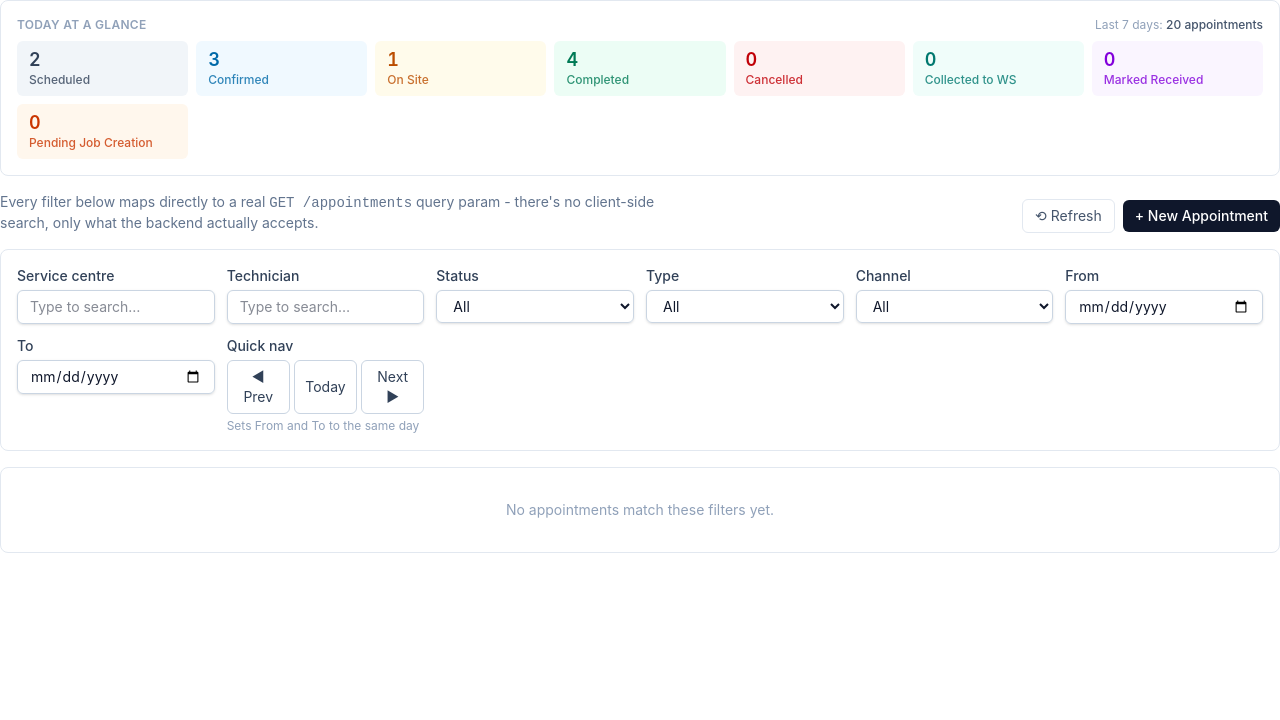
Test: SchedulePage - Google Maps link resolve › shows an inline error and leaves the coordinate fields untouched when the link cannot be resolved
Expected: the text "No appointments match these filters yet." is shown, [0,467,1279,553]
Click the button "+ New Appointment" at (1201, 216), box [1123,200,1279,232]
(page scrolled)
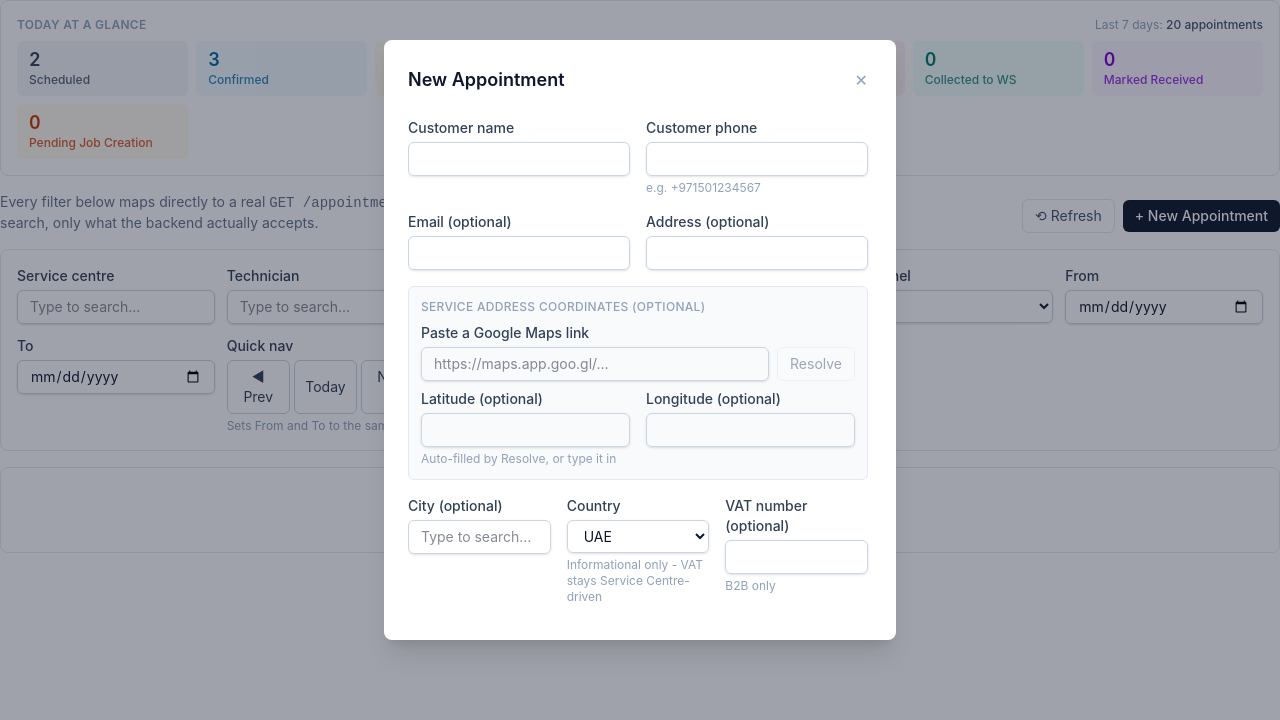
Now the heading "New Appointment" is shown, box [408,66,564,94]
Type "https://evil.example.com" into the field with placeholder "https://maps.app.goo.gl/…" at (595, 364), box [421,347,769,381]
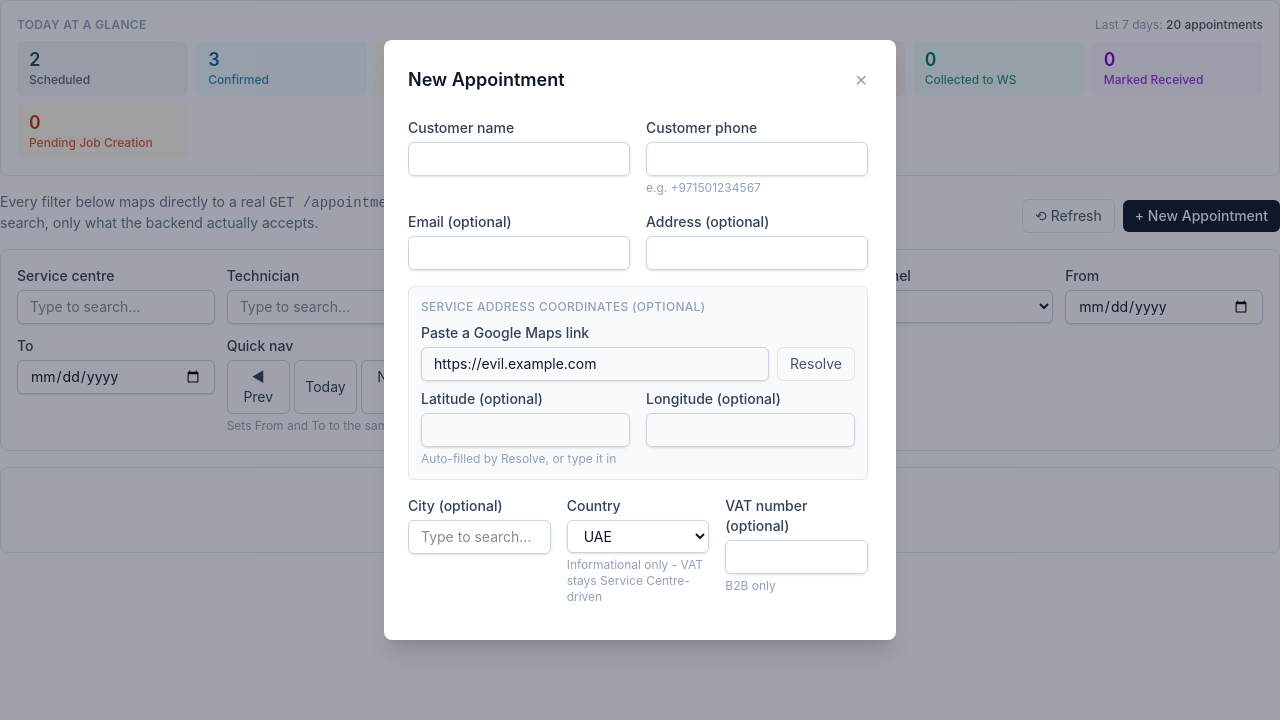
Click the button "Resolve" at (816, 364), box [777,347,855,381]
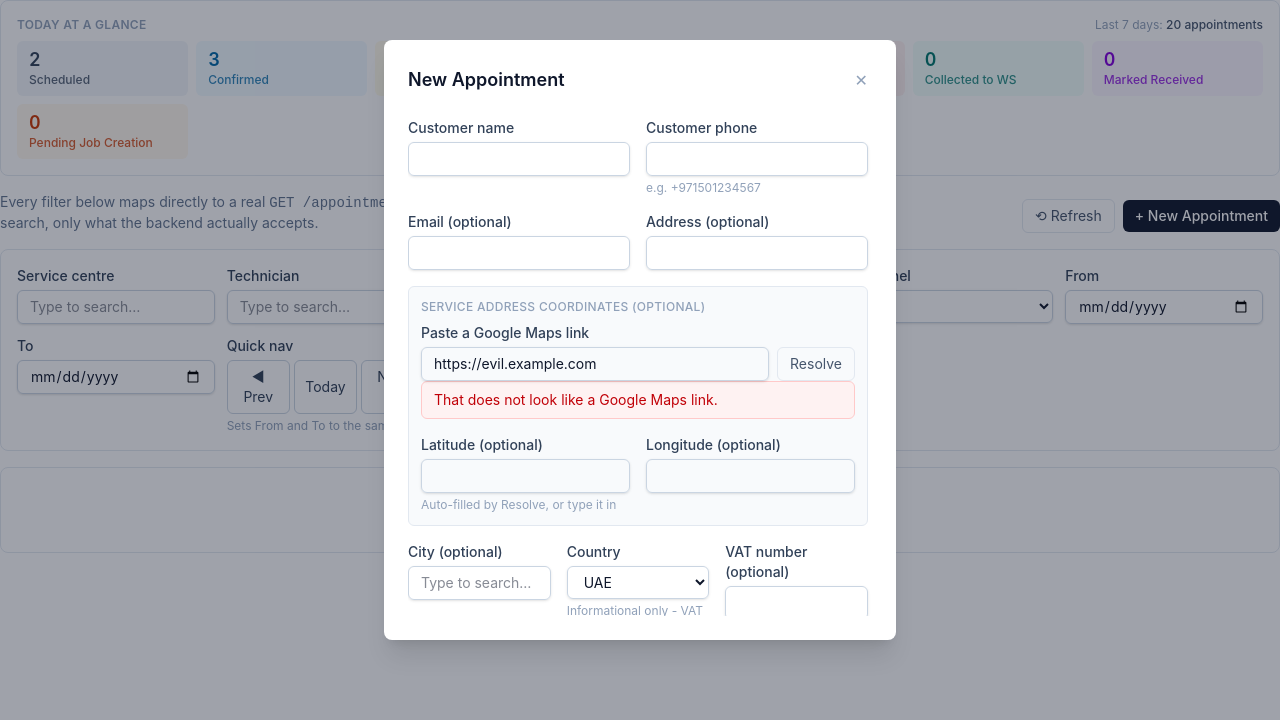
Now the number field labelled "Latitude (optional) Auto-filled by Resolve, or type it in" is not empty, box [421,459,630,493]
Now the number field labelled "Longitude (optional)" is not empty, box [646,459,855,493]
Now the text "That does not look like a Google Maps link." is shown, box [434,391,718,408]
